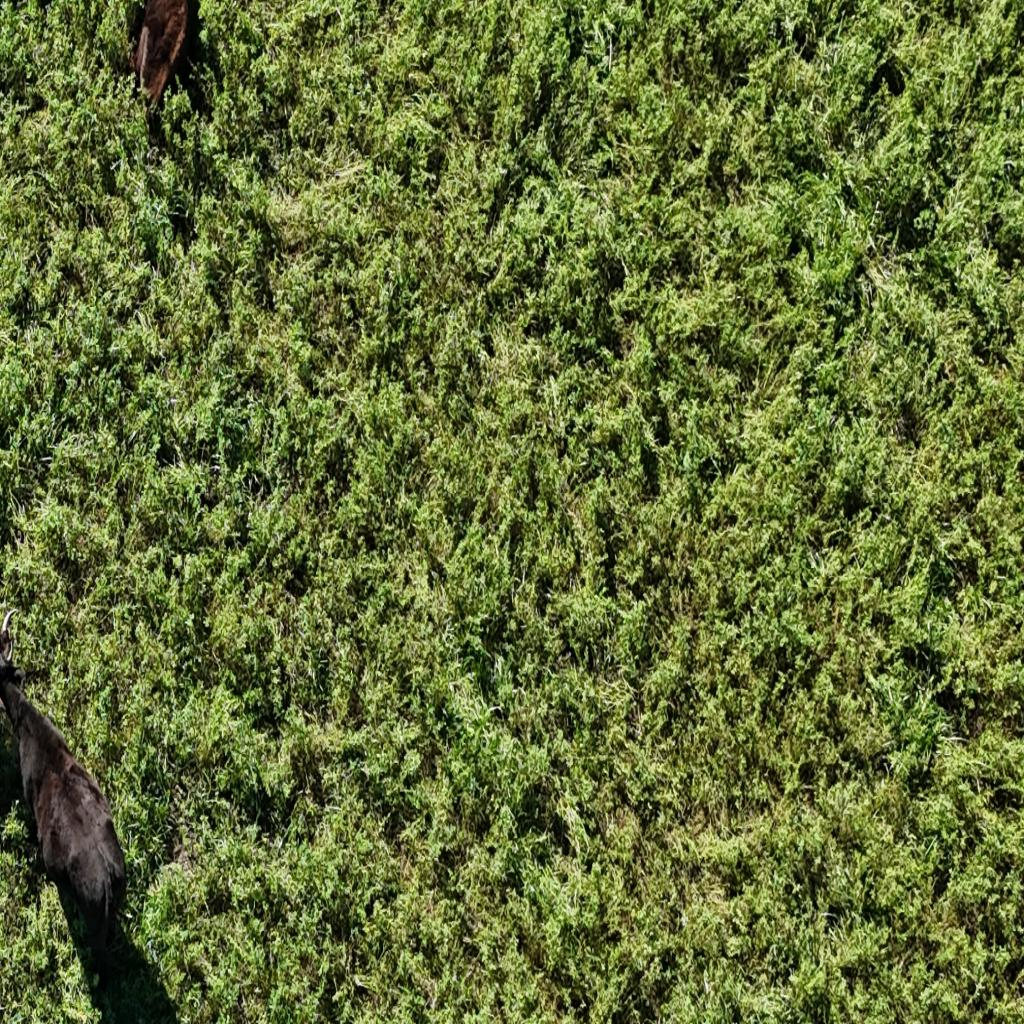cow: (4, 597, 136, 978), (127, 0, 195, 114)
